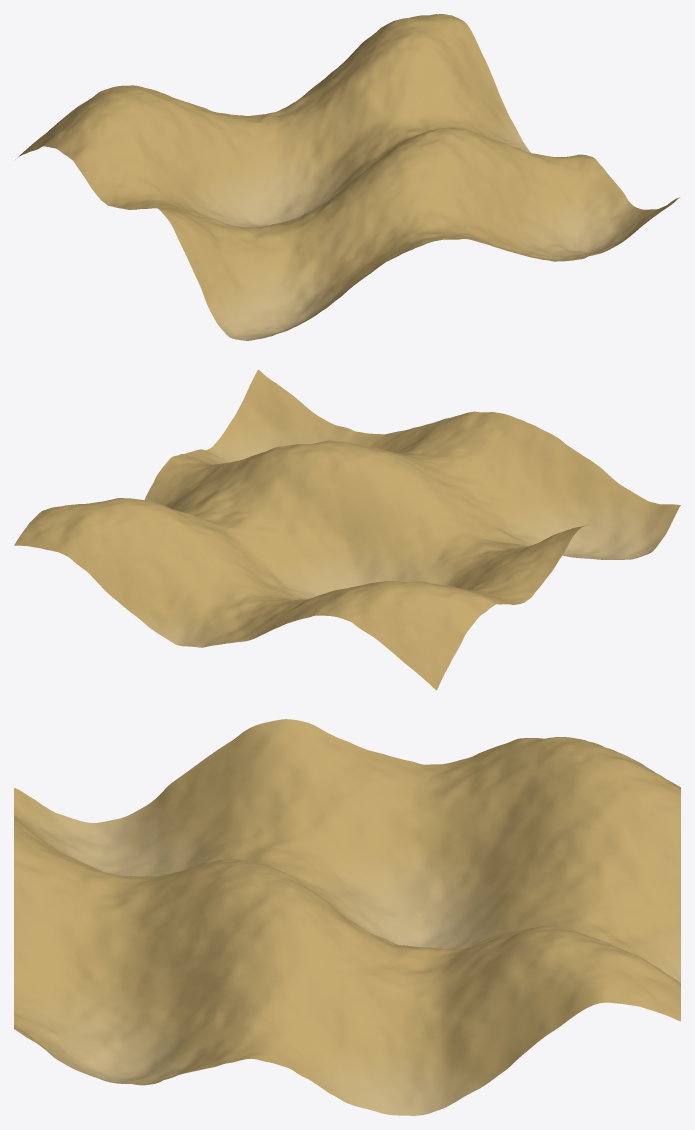
The model's file is desert.glb.
3 views of the same model, one above another, from view 1: azimuth 30°, elevation 25°; view 2: azimuth 150°, elevation 25°; view 3: azimuth 270°, elevation 25° (orthographic). The views are drawn at different scales.
Visible parts, largest first — view 1: Terrain_Surface; view 2: Terrain_Surface; view 3: Terrain_Surface.
Part boxes in pixels (x1,y1,x2,y2): Terrain_Surface: (15,14,679,340); Terrain_Surface: (14,369,680,690); Terrain_Surface: (14,719,680,1115).
Bounding box in the file's own units: 480 × 111 × 480.
